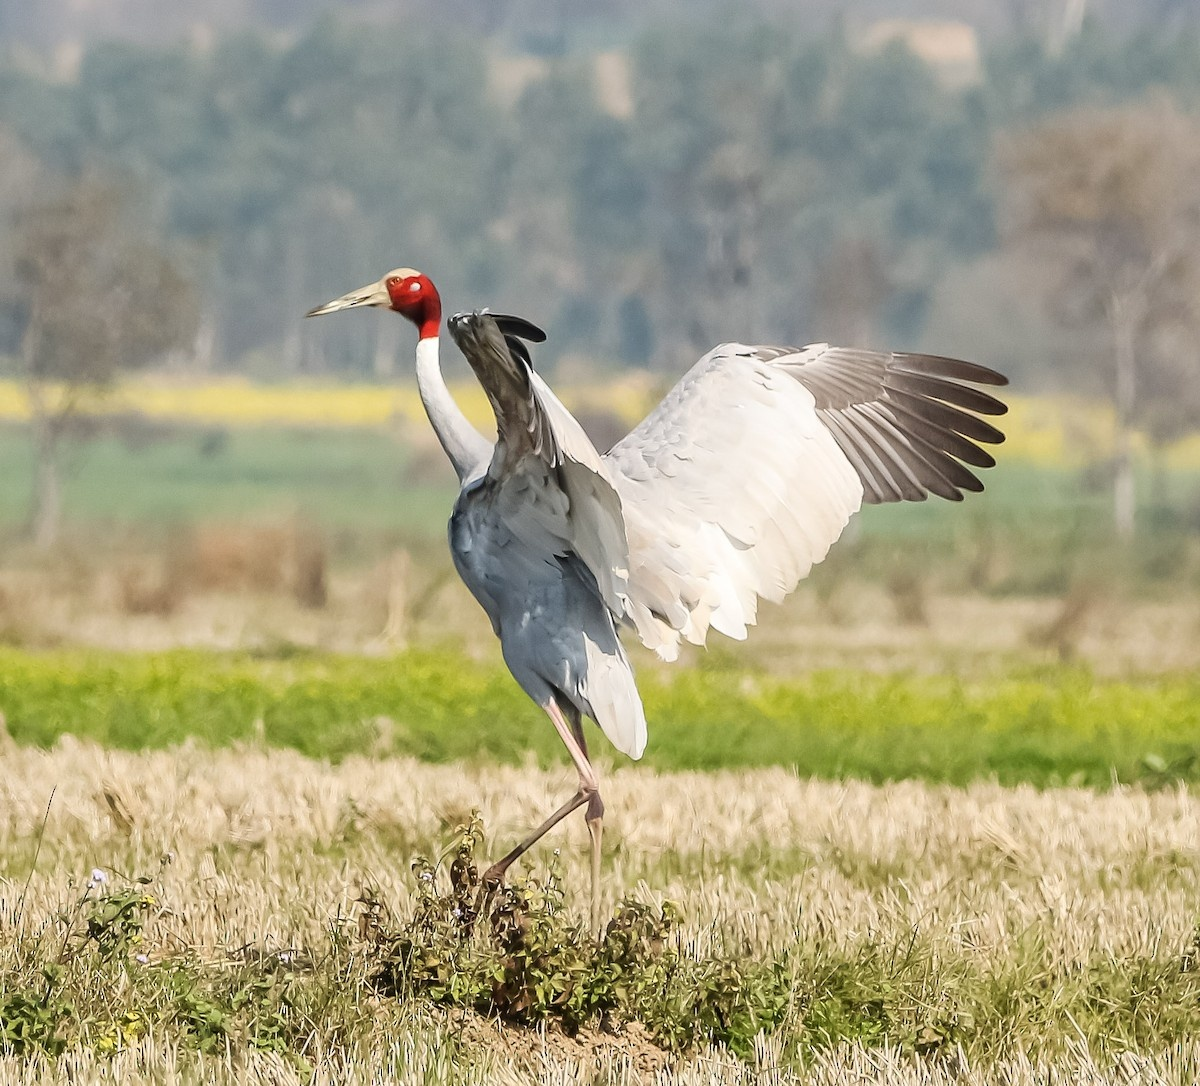crane: (296, 250, 1030, 916)
